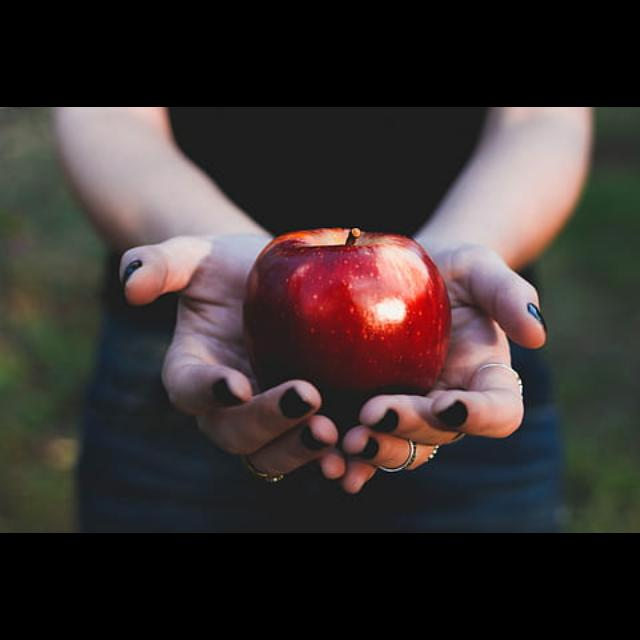Apel Segar: (236, 223, 464, 432)
